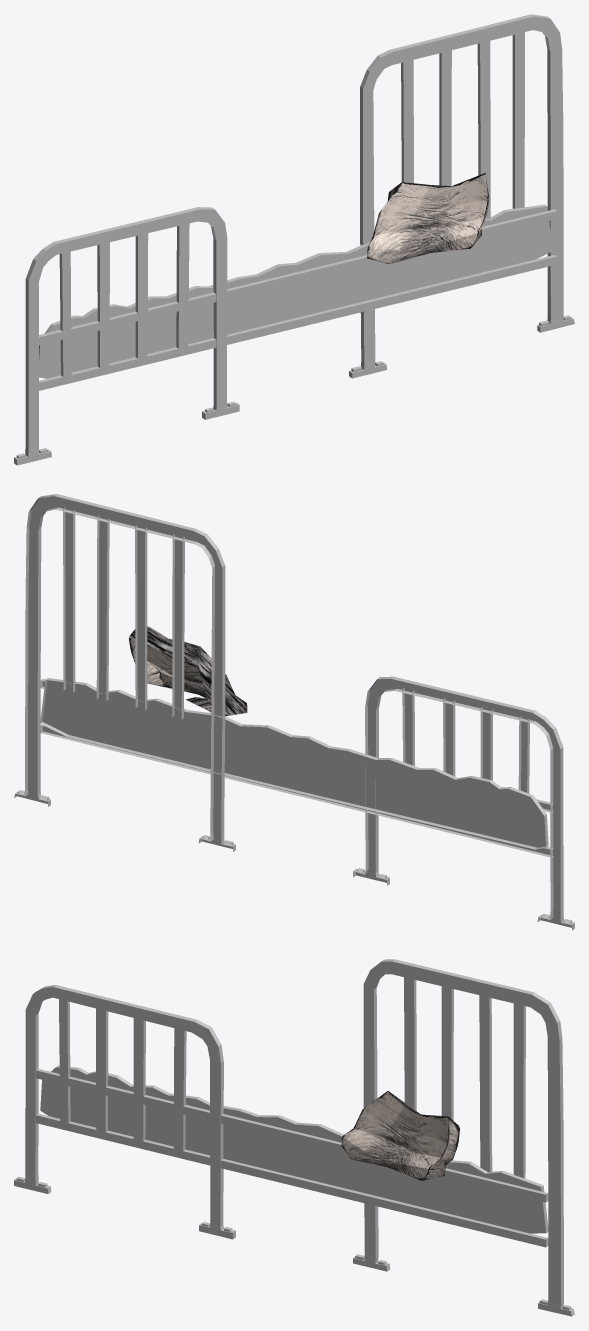
The model's file is bed.fbx.
The picture shows the model from 3 angles, top to bottom: view 1: azimuth 30°, elevation 25°; view 2: azimuth 150°, elevation 25°; view 3: azimuth 330°, elevation 25°; orthographic projection.
Parts seen in each view (by area): view 1: bed2, pillow1; view 2: bed2, pillow1; view 3: bed2, pillow1.
Part boxes in pixels (x1,y1,x2,y2): bed2: (14, 14, 574, 465); pillow1: (367, 173, 489, 263); bed2: (14, 494, 574, 930); pillow1: (129, 625, 247, 716); bed2: (14, 959, 574, 1316); pillow1: (341, 1091, 459, 1180).
Size of the model in its own units: 10.87 by 5.88 by 0.9183.
